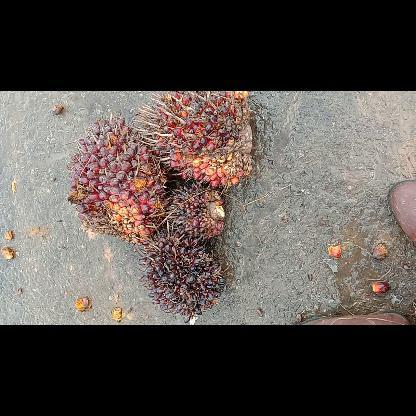TBS abnormal: (137, 226, 229, 318), (160, 181, 226, 243)
TBS masak: (65, 116, 169, 248), (132, 92, 256, 190)
